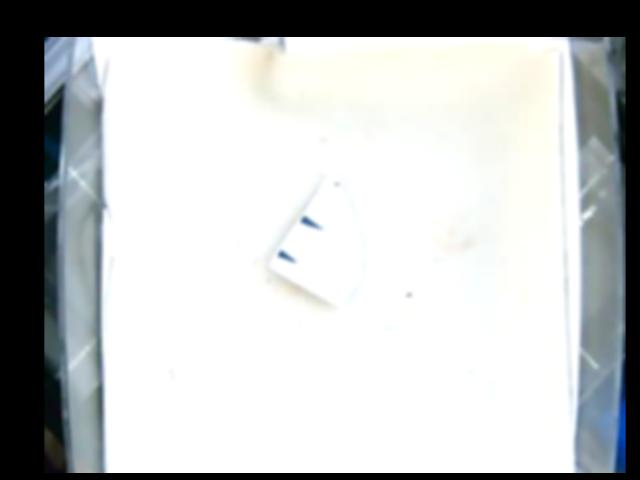China: (268, 172, 364, 311)
